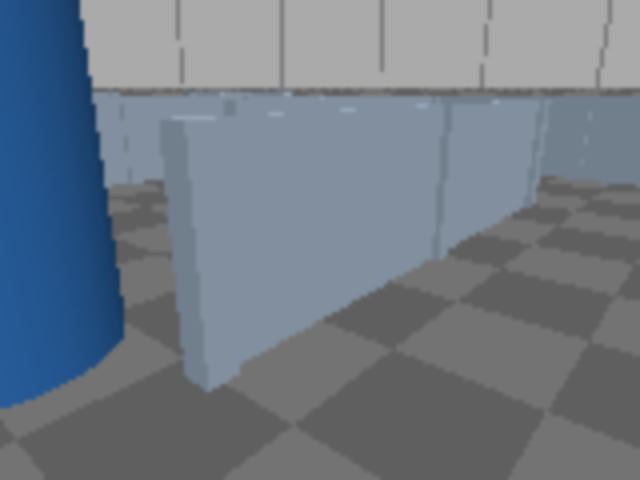person: (0, 0, 114, 402)
